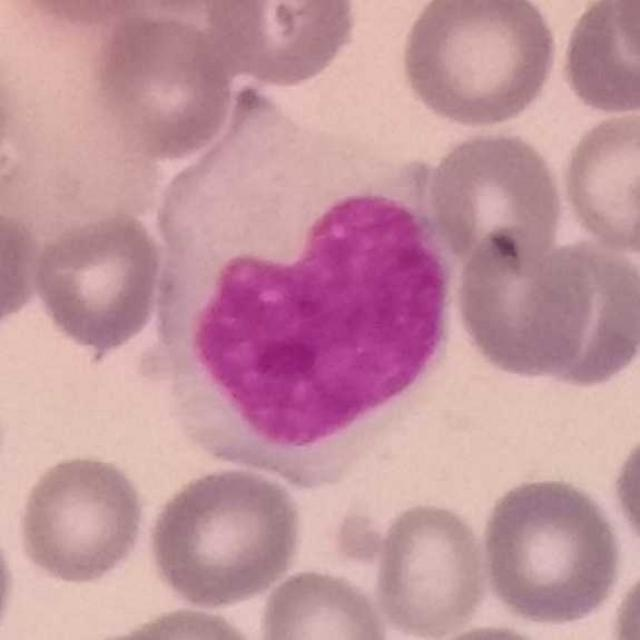mono: (149, 77, 472, 493)
